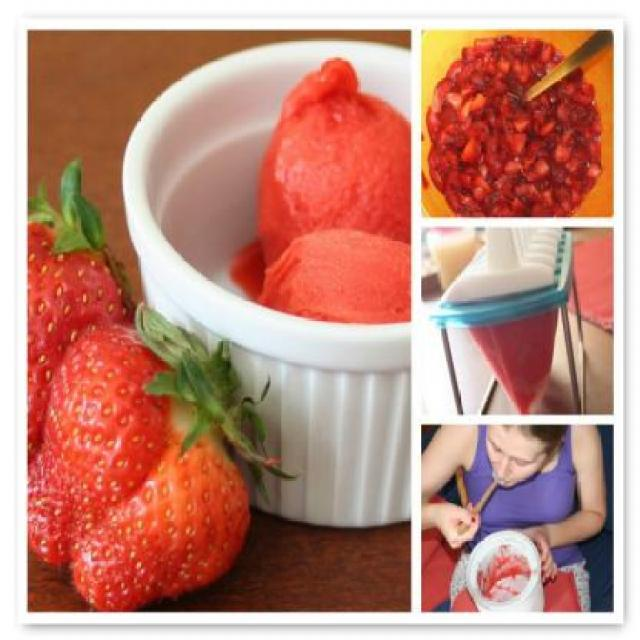Strawberry: (30, 164, 299, 610), (28, 152, 141, 454)
